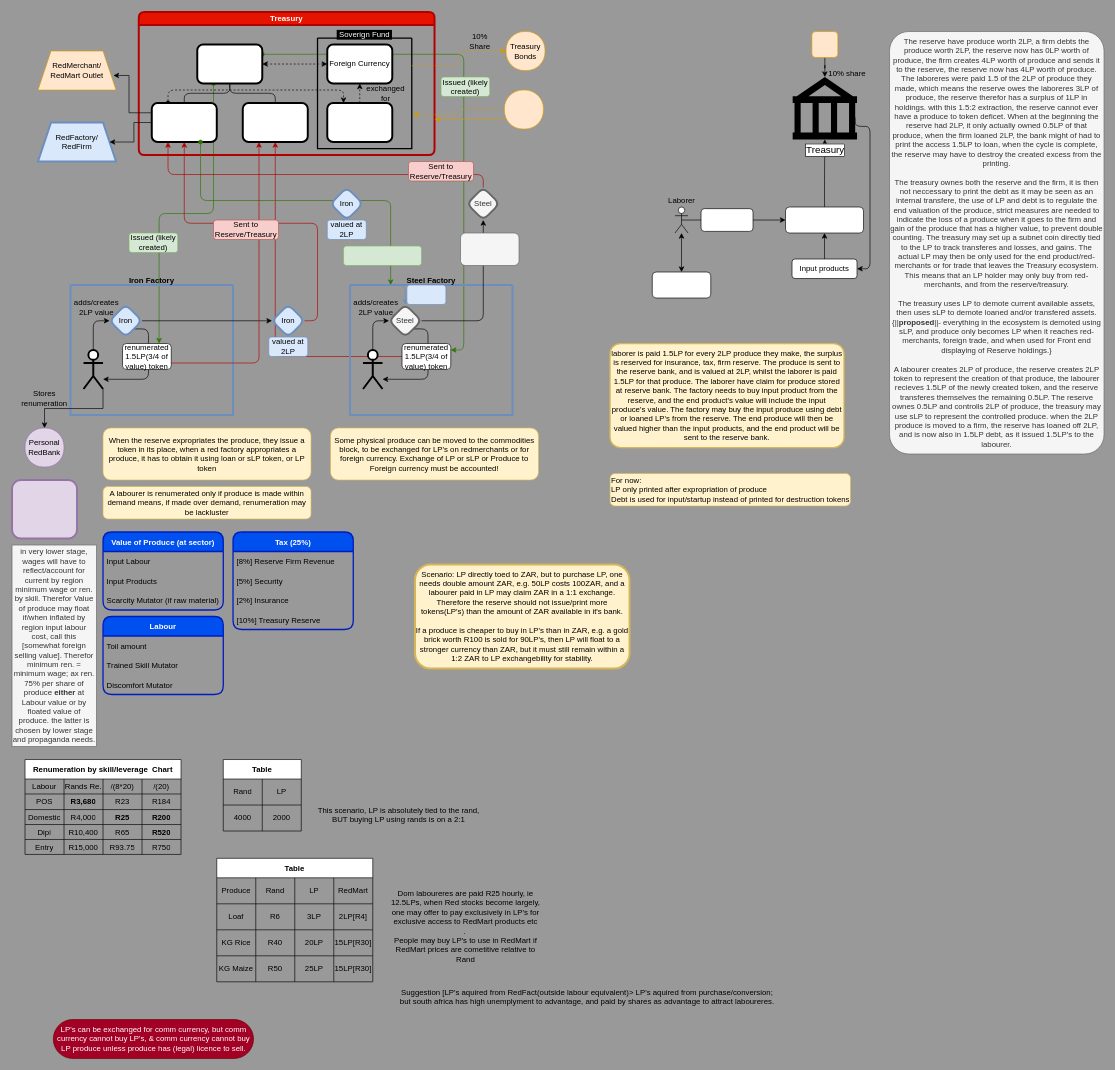
This 1115x1070 diagram has some shape labels left out. The shapes that lost their labels are listed below. From the top down, each one's centre as x and y in pixels, then its label:
At (x=229, y=63): "Reserve Bank + Storage( Capital )".
At (x=824, y=44): "Public Stock".
At (x=183, y=122): "Physical Produce".
At (x=274, y=122): "LP's from Tax".
At (x=359, y=122): "Raw Commodities".
At (x=523, y=109): "Crowd-funding".
At (x=726, y=219): "Labour Amount + Skill".
At (x=824, y=219): "Product Value".
At (x=382, y=255): "Bought(sometimes loaned) by factory".
At (x=489, y=249): "valued at 4LP (labour+input product)".
At (x=426, y=294): "Input product".
At (x=681, y=284): "Means of production".
At (x=44, y=509): "Exchange from LP to Currency available on RedBanks made for conversion".
